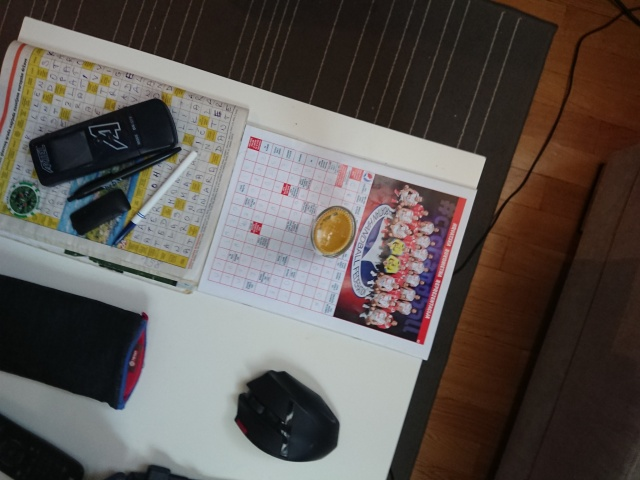Kotanyi Curry Spices Mix 70g: (308, 203, 359, 260)
